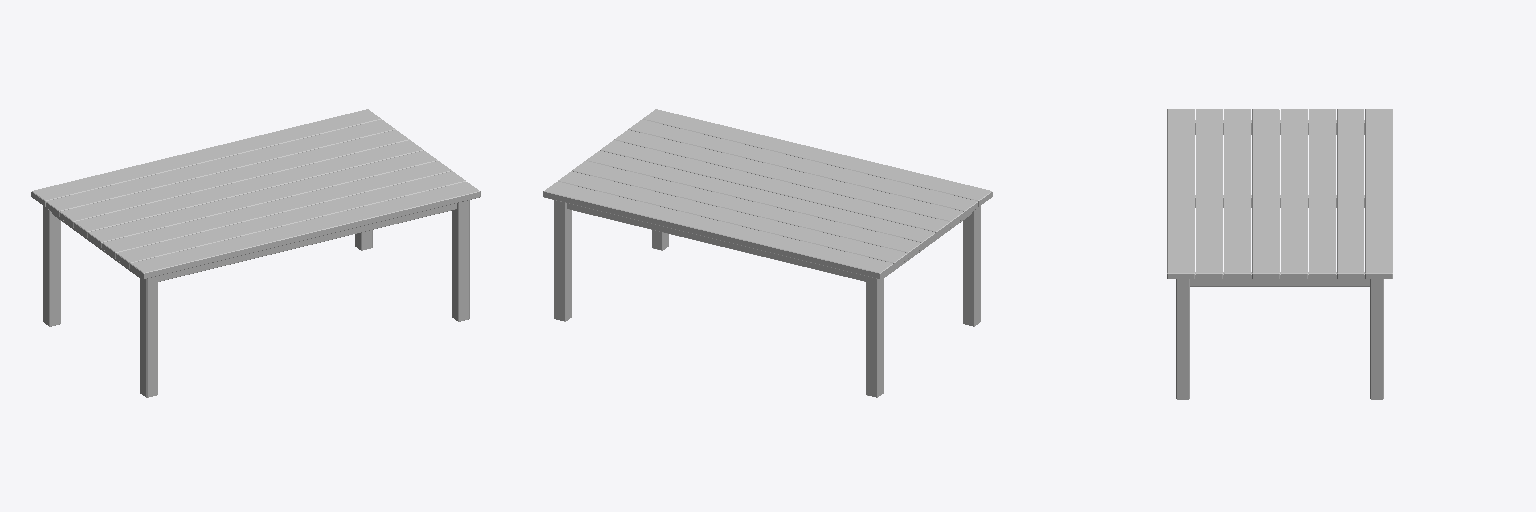
The model's file is shit.obj.
The picture shows the model from 3 angles: view 1: azimuth 30°, elevation 25°; view 2: azimuth 150°, elevation 25°; view 3: azimuth 270°, elevation 25°; orthographic projection.
Parts seen in each view (by area): view 1: Table1; view 2: Table1; view 3: Table1.
Boxes of the visible parts, <box> form: Table1: <box>31,109,480,397</box>; Table1: <box>543,109,992,397</box>; Table1: <box>1167,109,1392,399</box>.
Bounding box in the file's own units: 2.69 × 0.9928 × 1.56.